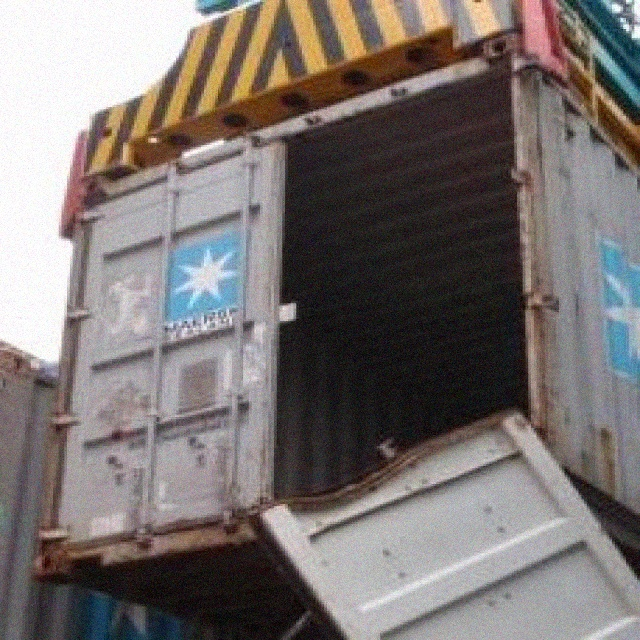Dent: (253, 52, 546, 523)
Hole: (261, 449, 423, 525)
